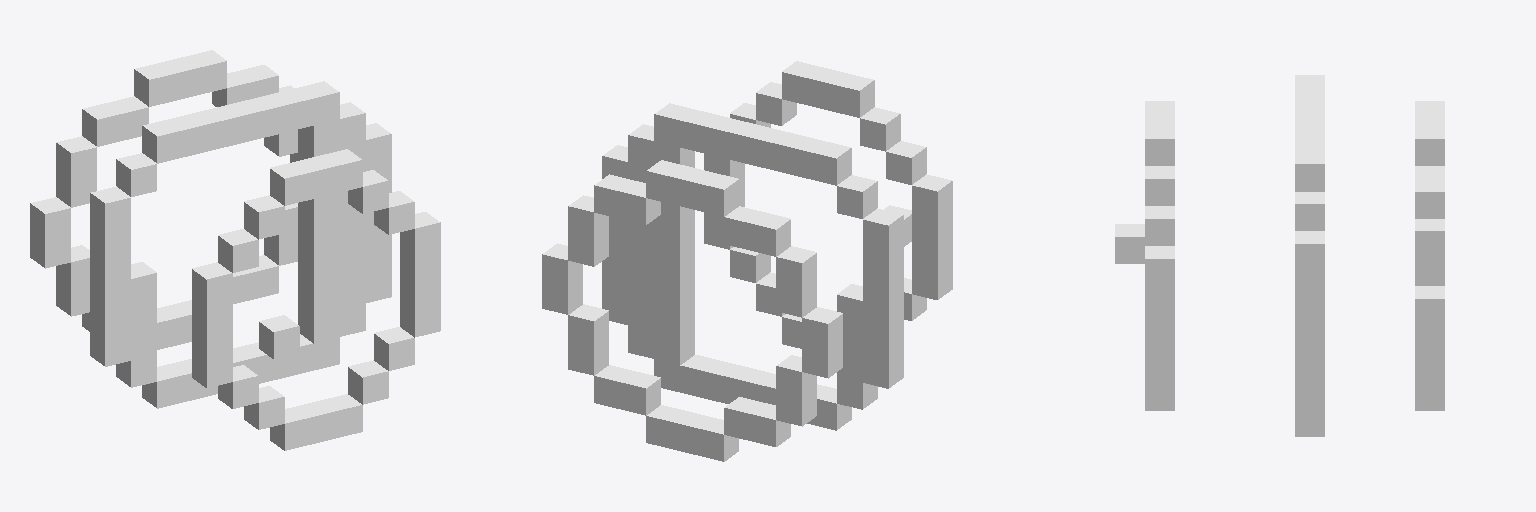
Rendered from tavern-17-keg_metalbinding.obj.
3 views of the same model, side by side, from view 1: azimuth 30°, elevation 25°; view 2: azimuth 150°, elevation 25°; view 3: azimuth 270°, elevation 25° (orthographic).
Visible parts, largest first — view 1: keg_metalbinding; view 2: keg_metalbinding; view 3: keg_metalbinding.
Part boxes in pixels (x1,y1,x2,y2): keg_metalbinding: (30, 50, 440, 450); keg_metalbinding: (542, 61, 952, 461); keg_metalbinding: (1115, 75, 1444, 436).
Bounding box in the file's own units: 1.1 × 1 × 1.1.